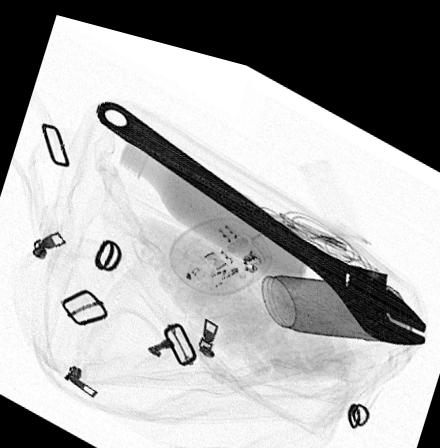Wrench: (95, 93, 428, 322)
